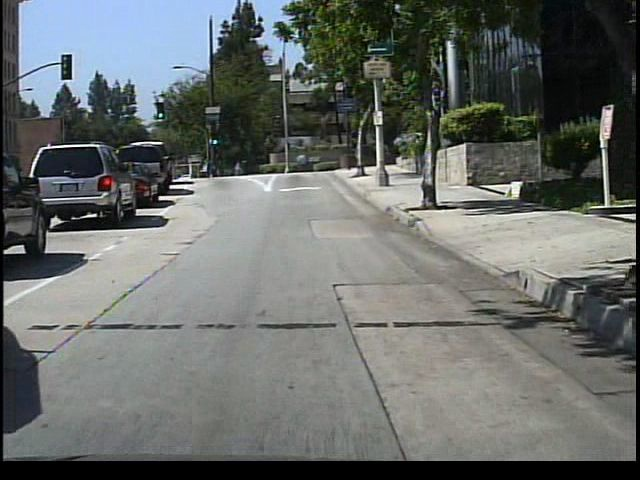person: (203, 155, 217, 178)
